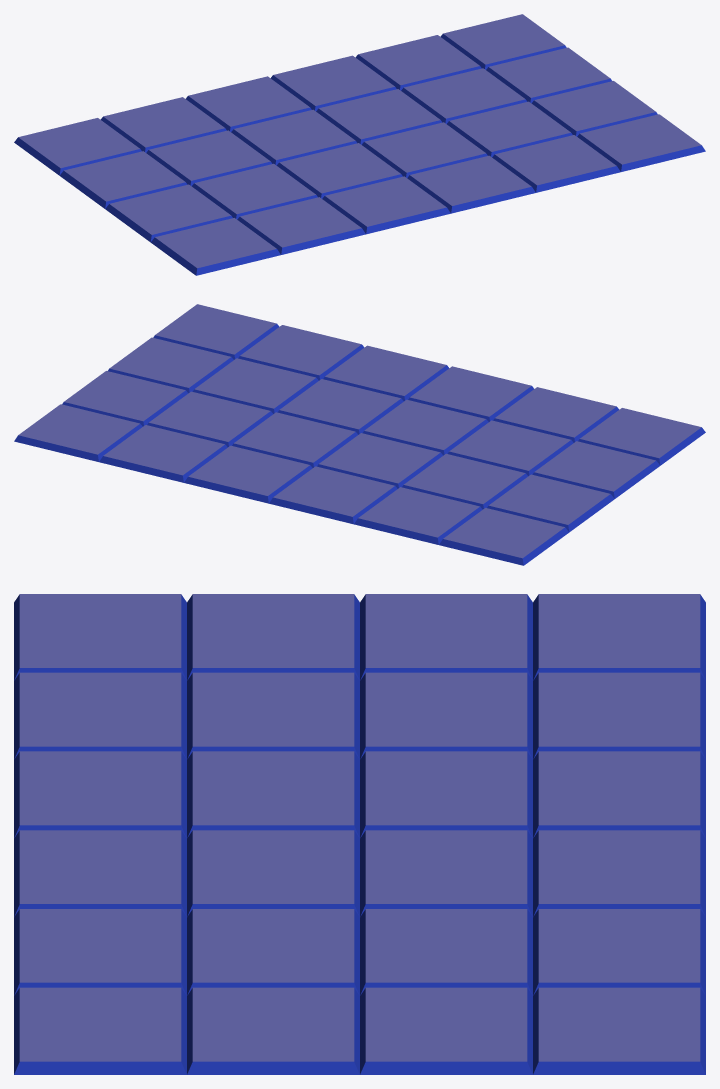
Rendered from MDL_Suelo_01.FBX.
3 renders of one model, top to bottom at view 1: azimuth 30°, elevation 25°; view 2: azimuth 150°, elevation 25°; view 3: azimuth 270°, elevation 25°, orthographic. The views are drawn at different scales.
Parts seen in each view (by area): view 1: Plane001; view 2: Plane001; view 3: Plane001.
Part boxes in pixels (x1,y1,x2,y2): Plane001: (14,14,705,275); Plane001: (14,304,705,565); Plane001: (14,594,705,1074).
Size of the model in its own units: 194 by 2.1 by 120.
